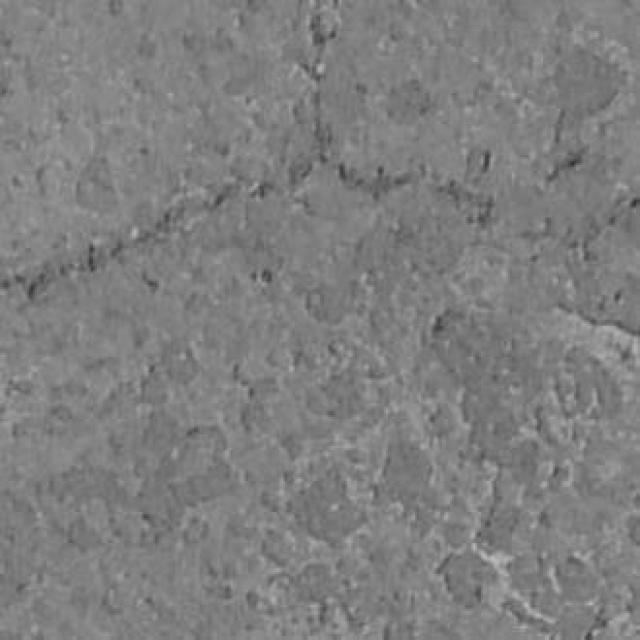crack: (0, 183, 242, 304)
